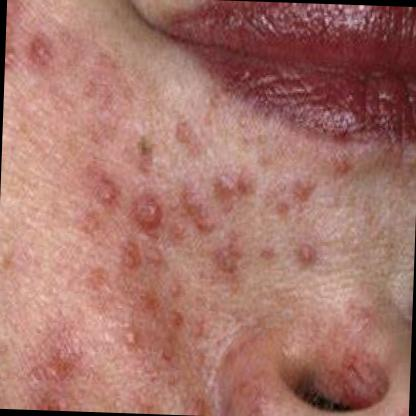Acne: (117, 317, 146, 359), (296, 238, 320, 274)
